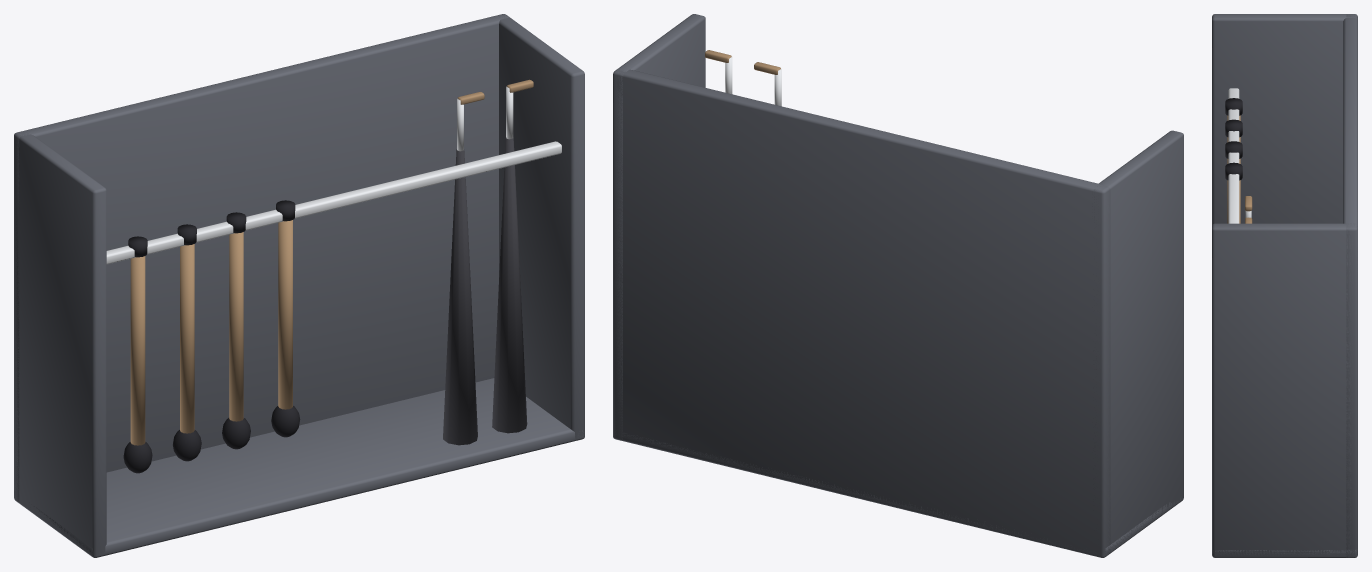
File: rack.glb
3 views of the same model, side by side, from view 1: azimuth 30°, elevation 25°; view 2: azimuth 150°, elevation 25°; view 3: azimuth 270°, elevation 25° (orthographic). The views are drawn at different scales.
Visible parts, largest first — view 1: Cube, Cube.001, Cube.003, Cube.002, Cone.010, Cone.008, Cube.004, Cone, Cone.002, Cone.004, Cone.006, Sphere (+3 smaller); view 2: Cube, Cube.001, Cube.002, Cube.003; view 3: Cube.002, Cube.001, Cube, Cube.004, Cube.003, Cone.001, Cone.005, Cone.007, Cone.003.
Part boxes in pixels (x1=…): Cube: x1=14, y1=14, x2=510, y2=502; Cube.001: x1=14, y1=131, x2=106, y2=557; Cube.003: x1=14, y1=378, x2=584, y2=557; Cube.002: x1=499, y1=14, x2=584, y2=440; Cone.010: x1=492, y1=137, x2=527, y2=433; Cone.008: x1=443, y1=149, x2=477, y2=445; Cube.004: x1=106, y1=141, x2=561, y2=264; Cone: x1=130, y1=256, x2=145, y2=445; Cone.002: x1=180, y1=244, x2=194, y2=433; Cone.004: x1=229, y1=232, x2=243, y2=421; Cone.006: x1=278, y1=220, x2=292, y2=409; Sphere: x1=123, y1=442, x2=152, y2=473; Cube: x1=613, y1=68, x2=1110, y2=557; Cube.001: x1=1092, y1=130, x2=1183, y2=557; Cube.002: x1=613, y1=14, x2=705, y2=440; Cube.003: x1=613, y1=433, x2=1182, y2=556; Cube.002: x1=1212, y1=223, x2=1357, y2=557; Cube.001: x1=1212, y1=14, x2=1357, y2=225; Cube: x1=1343, y1=14, x2=1357, y2=557; Cube.004: x1=1228, y1=88, x2=1239, y2=223; Cube.003: x1=1212, y1=549, x2=1356, y2=556; Cone.001: x1=1225, y1=98, x2=1242, y2=115; Cone.005: x1=1225, y1=141, x2=1242, y2=158; Cone.007: x1=1225, y1=162, x2=1242, y2=180; Cone.003: x1=1225, y1=119, x2=1242, y2=137.
Bounding box in the file's own units: 140 × 100 × 40.
